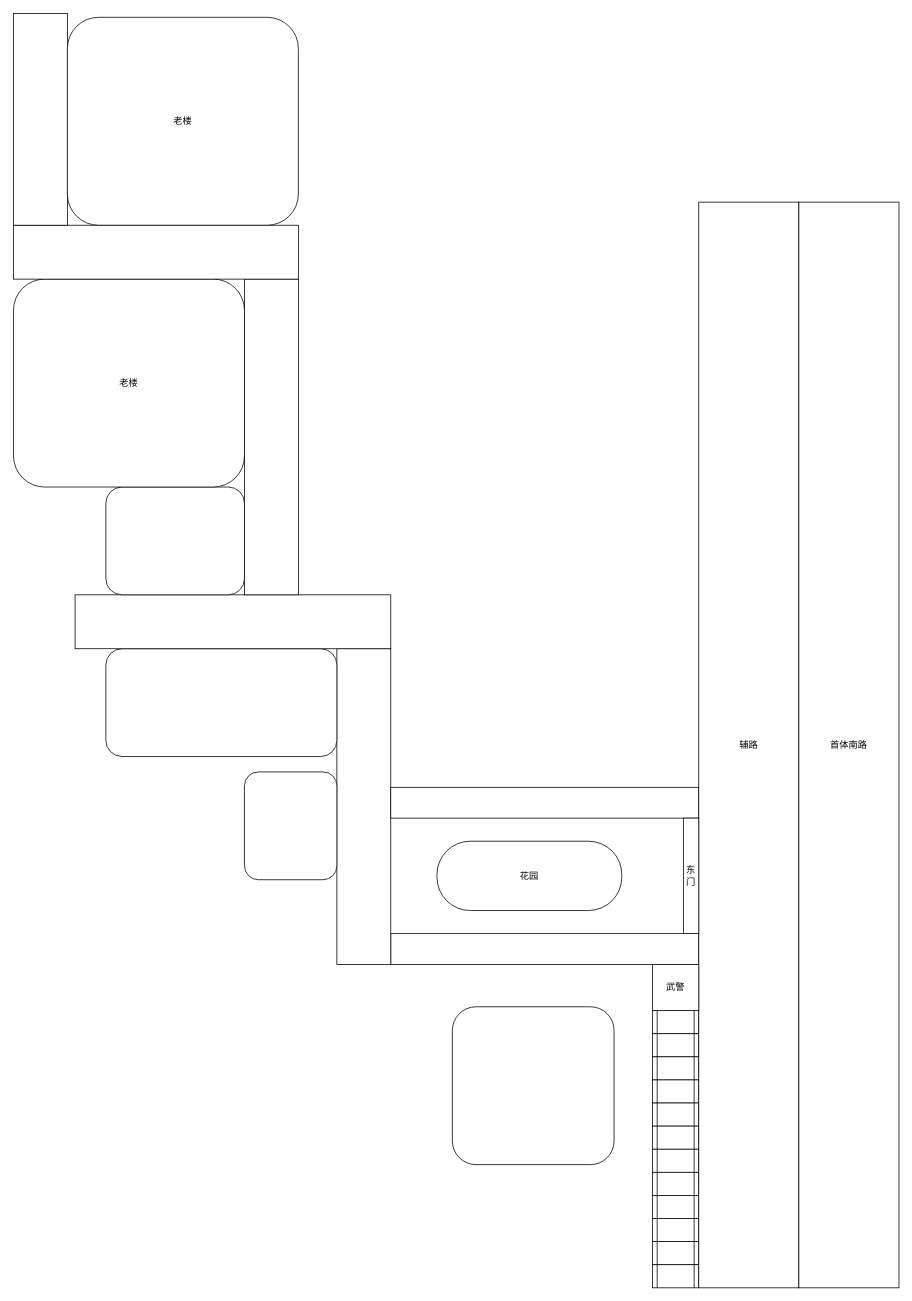
The diagram is 912 pixels wide and 1301 high, and some of its shapes have lost their labels. Here are the shapes that lost their labels. From the top down, the box of each, then its label:
(105, 486, 244, 595): 食堂
(105, 648, 337, 757): 家属院
(244, 771, 337, 880): 主楼
(452, 1006, 614, 1165): 科研楼
